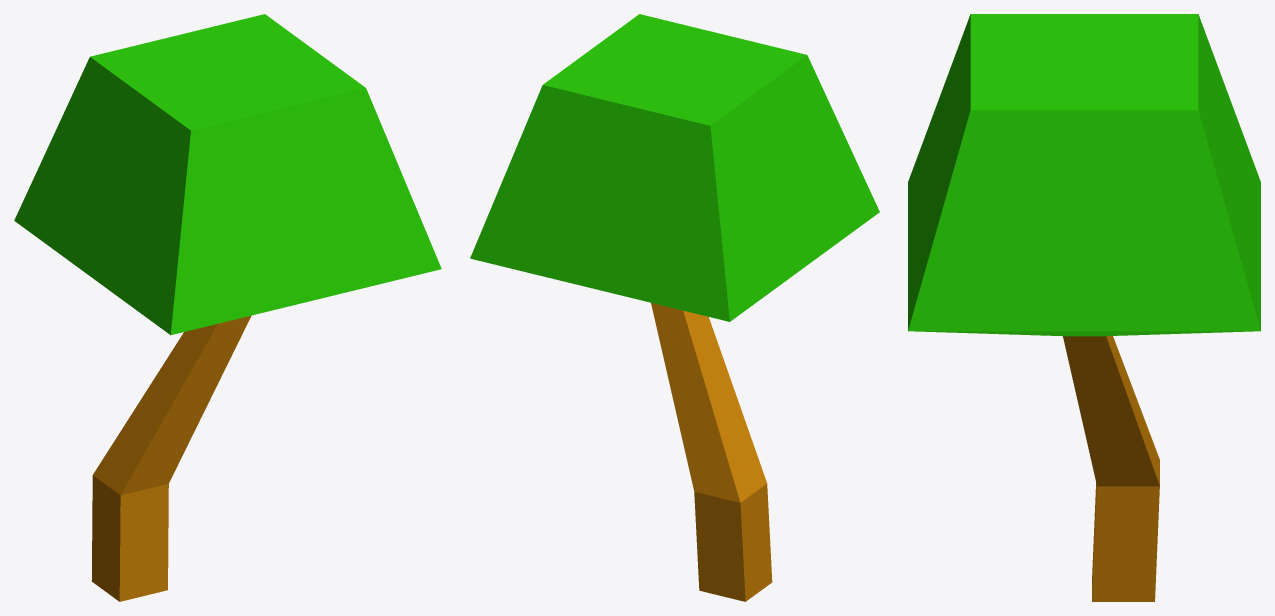
Rendered from tree2.dae.
The picture shows the model from 3 angles, left to right: view 1: azimuth 30°, elevation 25°; view 2: azimuth 150°, elevation 25°; view 3: azimuth 270°, elevation 25°; orthographic projection. The views are drawn at different scales.
Visible parts, largest first — view 1: Cube_003; view 2: Cube_003; view 3: Cube_003.
Part boxes in pixels (left/top/right/bottom): Cube_003: left=14, top=14, right=441, bottom=601; Cube_003: left=470, top=14, right=879, bottom=601; Cube_003: left=908, top=14, right=1260, bottom=601.
Bounding box in the file's own units: 11.23 × 11.23 × 20.05.
